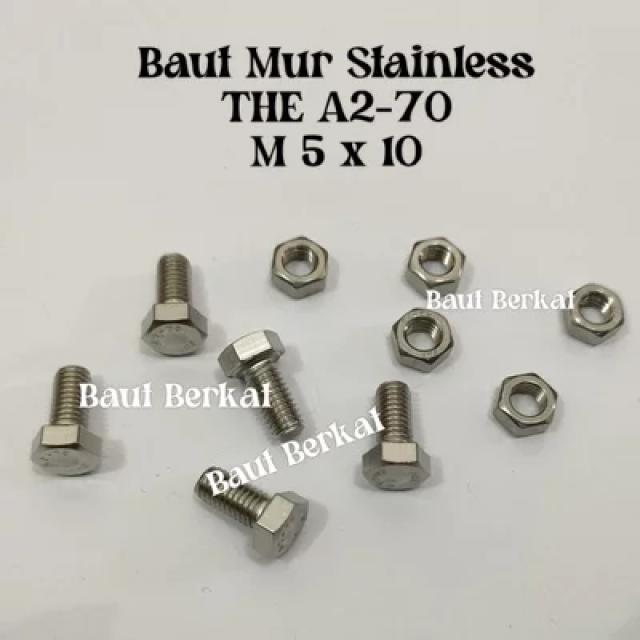Logam: (110, 231, 223, 382), (353, 369, 456, 521), (216, 329, 334, 442), (194, 452, 319, 558), (13, 343, 108, 476), (488, 367, 580, 458), (396, 222, 495, 304), (380, 301, 471, 376), (259, 226, 356, 292), (552, 269, 621, 359)
